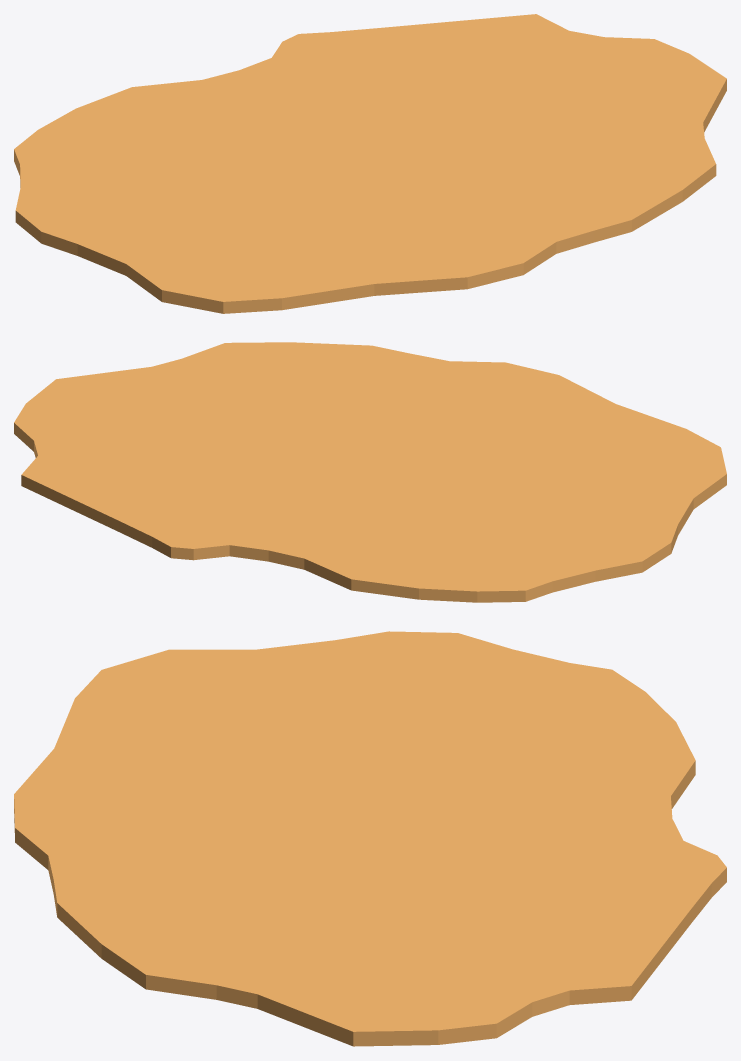
The model's file is Sand 11.FBX.
3 renders of one model, top to bottom at view 1: azimuth 30°, elevation 25°; view 2: azimuth 150°, elevation 25°; view 3: azimuth 270°, elevation 25°, orthographic. The views are drawn at different scales.
Visible parts, largest first — view 1: Plane001; view 2: Plane001; view 3: Plane001.
Boxes of the visible parts, x1,y1,x2,y2 form: Plane001: (14,14,726,313); Plane001: (14,342,726,602); Plane001: (14,631,726,1046).
Bounding box in the file's own units: 146 × 2.49 × 110.
